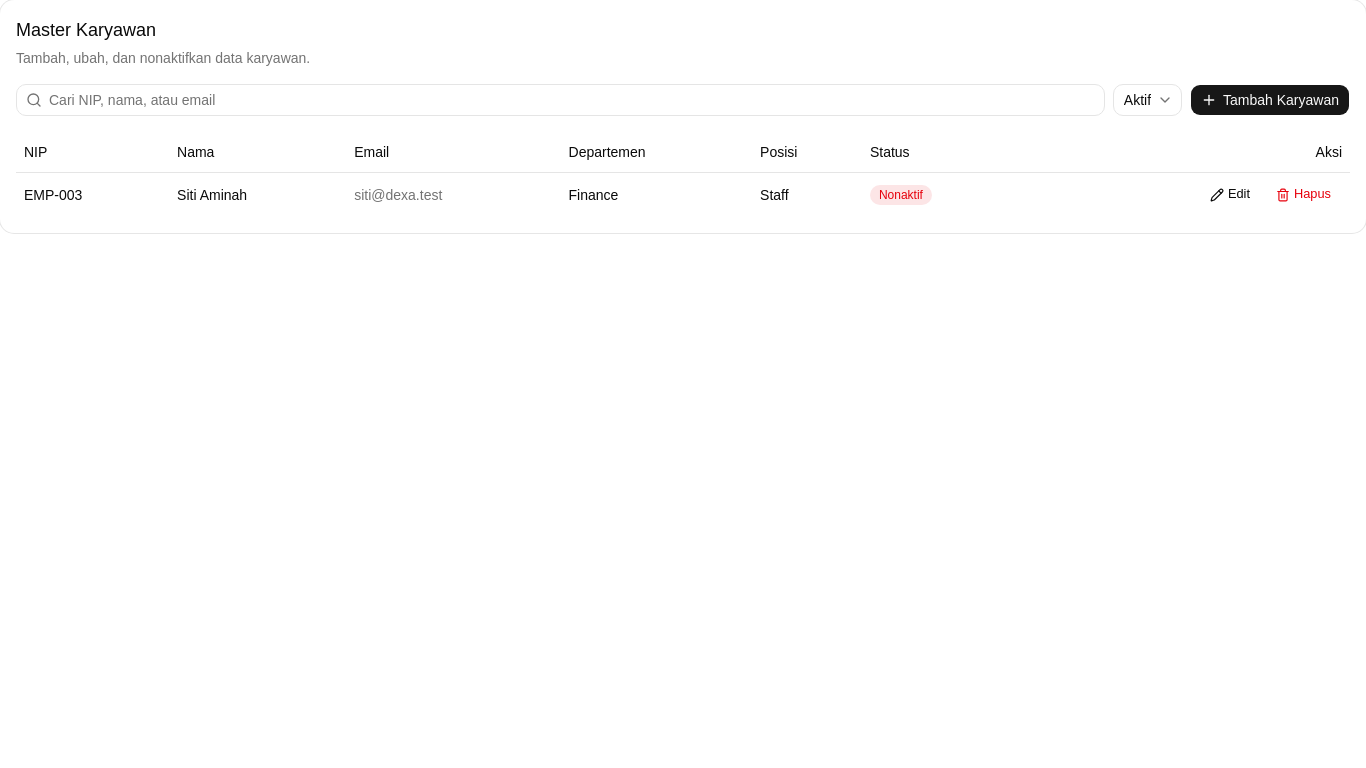
EmployeesPage › hard-deletes an INACTIVE employee after confirm and refreshes the list
Expected: the text "Siti Aminah" is shown, [169,172,346,216]
Step 1. Click the button with aria-label "Hapus Siti Aminah" → [1304, 194], box [1265,180,1342,208]
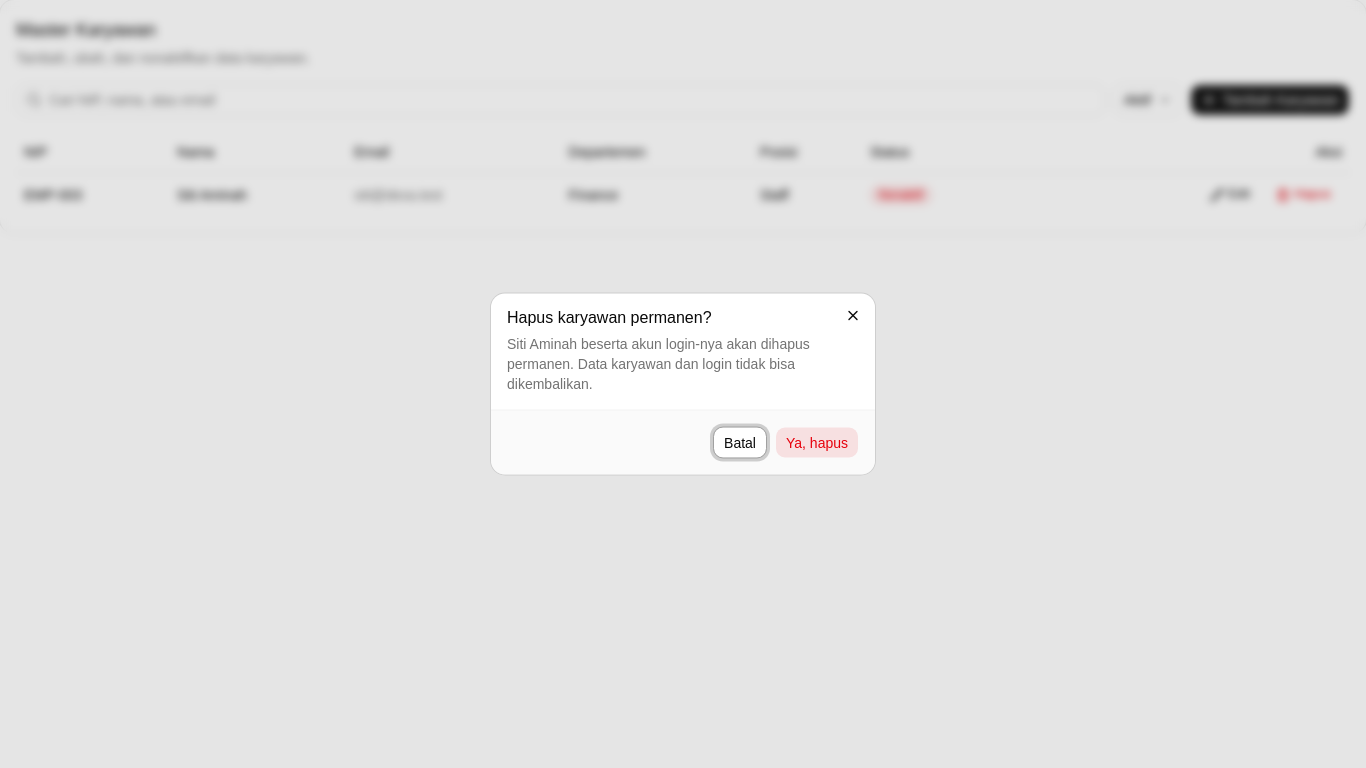
Result: the heading "Hapus karyawan permanen?" is shown at [507,308,712,326]
Step 2. Click the button "Ya, hapus" → [817, 442], box [775,426,859,458]
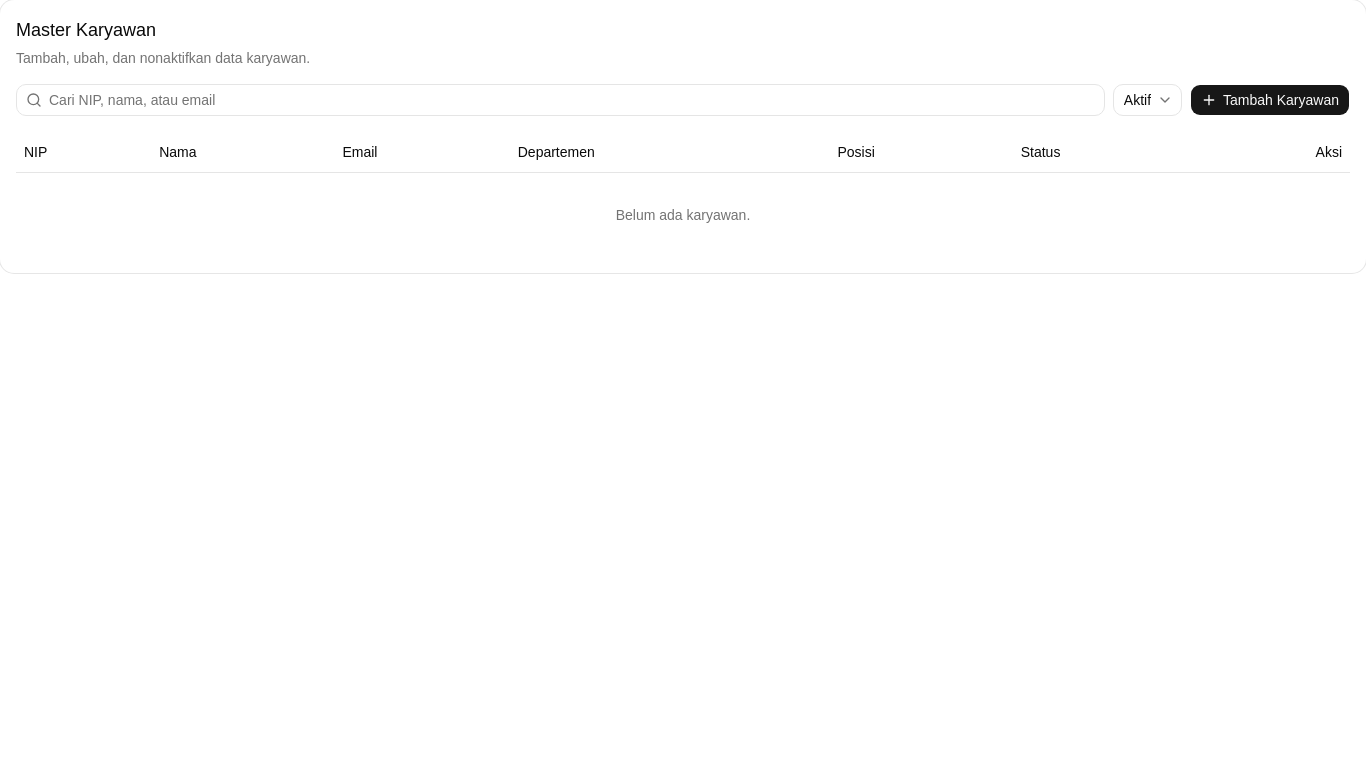
Result: the dialog is gone
Result: the text "Siti Aminah" is gone
